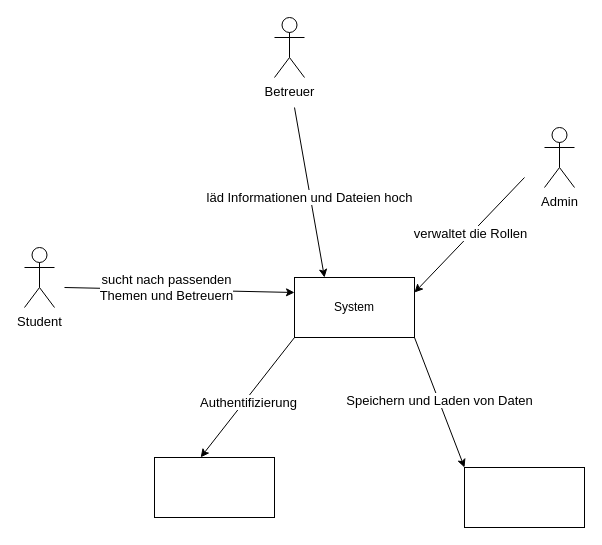
The diagram is 602 pixels wide and 545 high, and some of its shapes have lost their labels. Each missing label, with the centre of its shape:
"Datenbank" goes at point (524, 497).
"Github" goes at point (214, 487).
